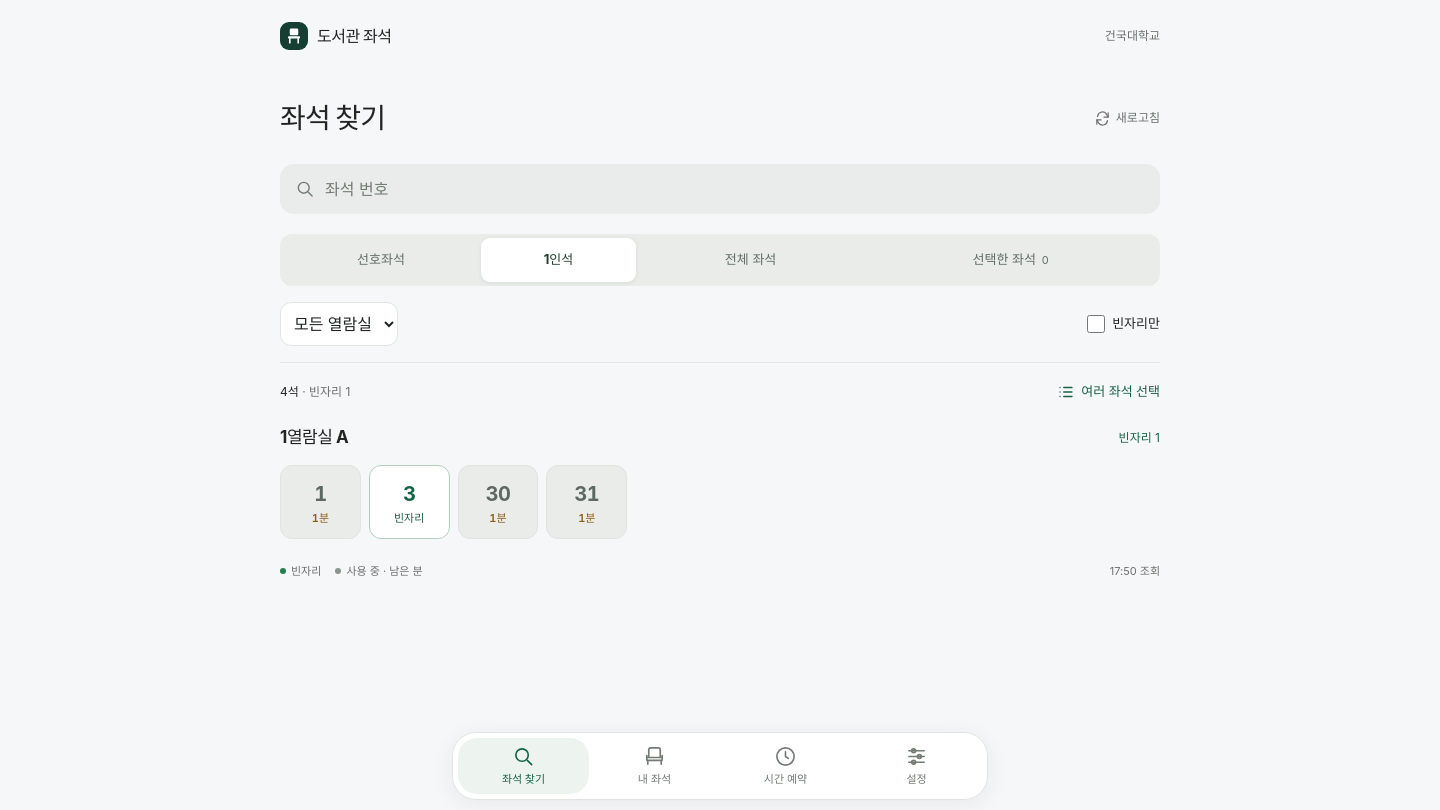
it: React app with the existing account API › disables mutations offline while details remain readable
Check: the heading "좌석 찾기" is shown, box [280, 100, 385, 136]
Click the button "전체 좌석": (751, 260) [639, 238, 862, 282]
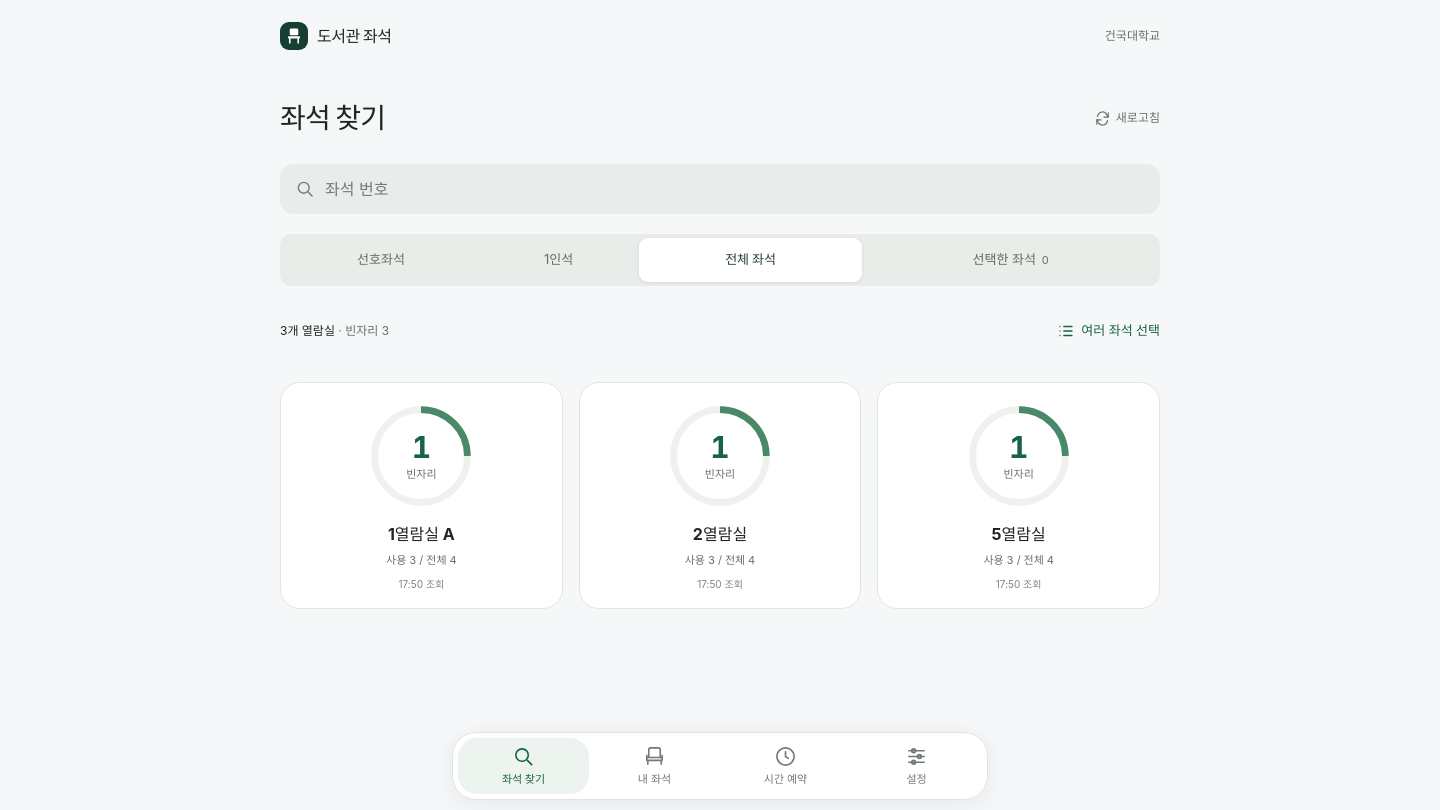
In the search field: (740, 189) [325, 164, 1154, 214], type "열람실"
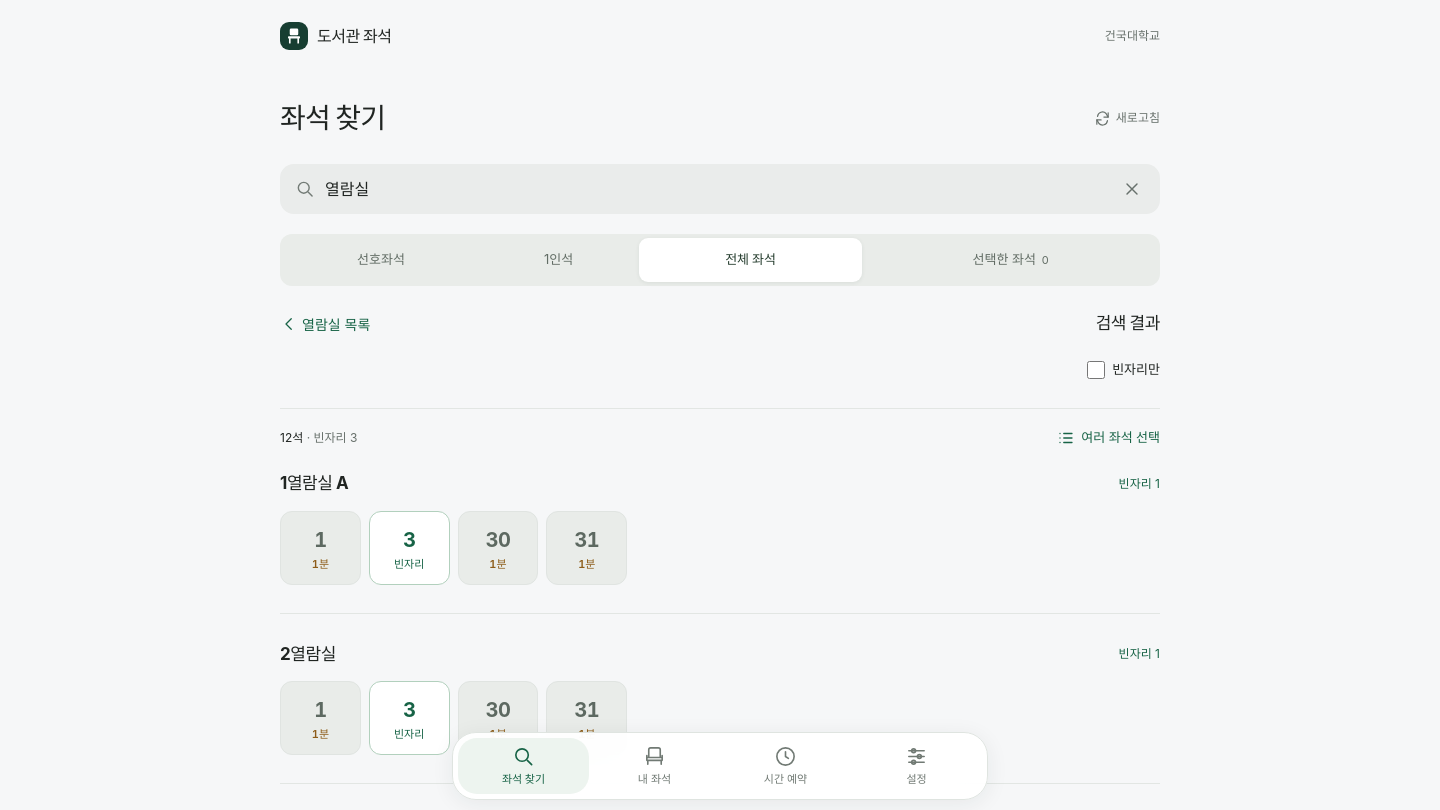
Click the button with aria-label "2열람실 3번 빈자리 상세 보기": (409, 718) [369, 681, 450, 755]
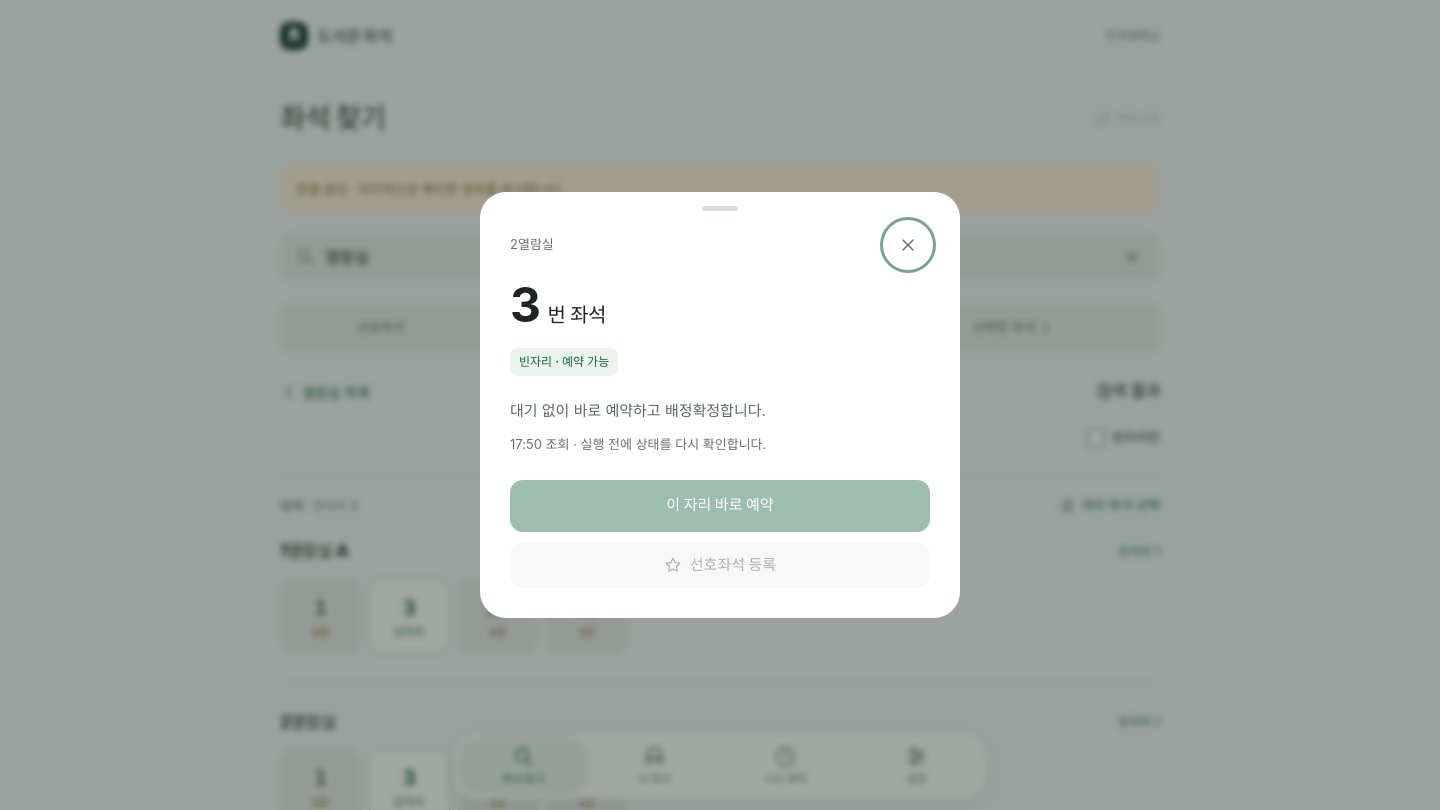
Check: the button "이 자리 바로 예약" is disabled, box [510, 480, 930, 532]
Check: the heading "3번 좌석" is shown, box [510, 275, 606, 334]
